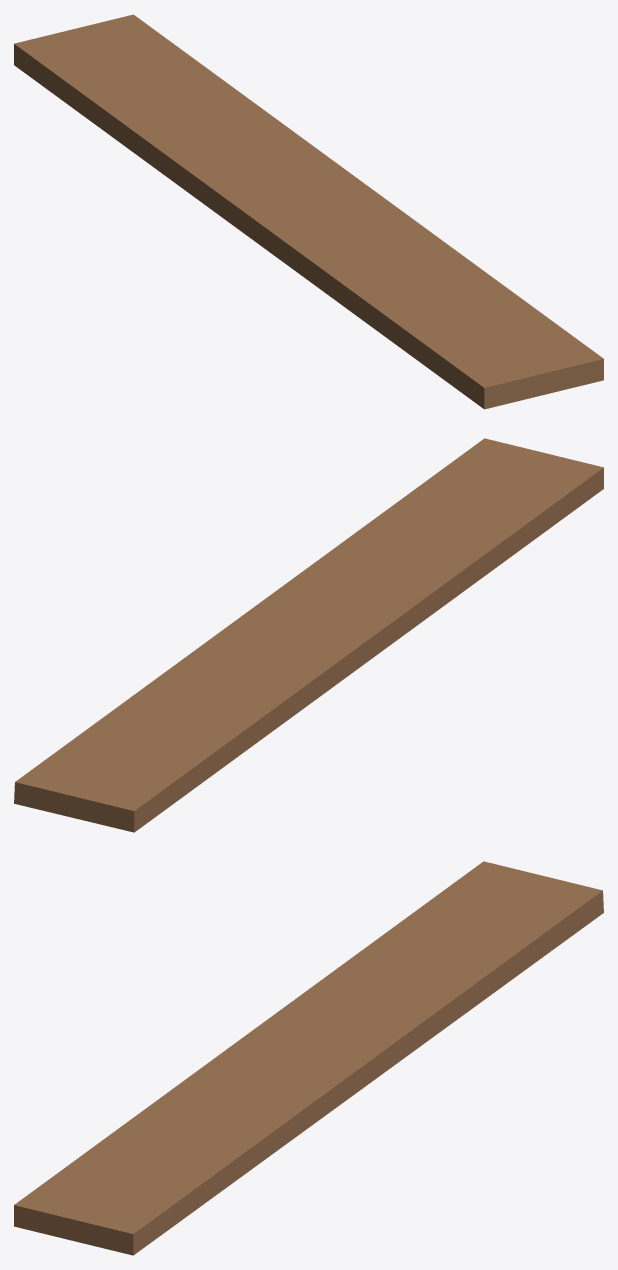
Rendered from TAHTA.fbx.
3 views of the same model, one above another, from view 1: azimuth 30°, elevation 25°; view 2: azimuth 150°, elevation 25°; view 3: azimuth 330°, elevation 25° (orthographic).
Visible parts, largest first — view 1: Cube; view 2: Cube; view 3: Cube.
Part boxes in pixels (x1,y1,x2,y2): Cube: [14, 14, 603, 409]; Cube: [14, 438, 603, 832]; Cube: [14, 861, 603, 1255].
Bounding box in the file's own units: 150 × 26.23 × 1015.
